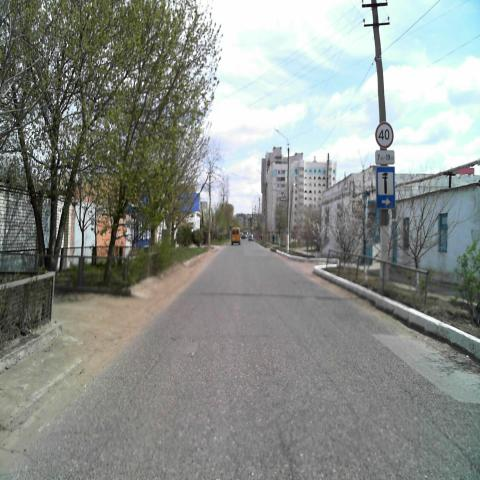7_4: (376, 166, 394, 209)
8_5_4: (375, 149, 395, 165)
